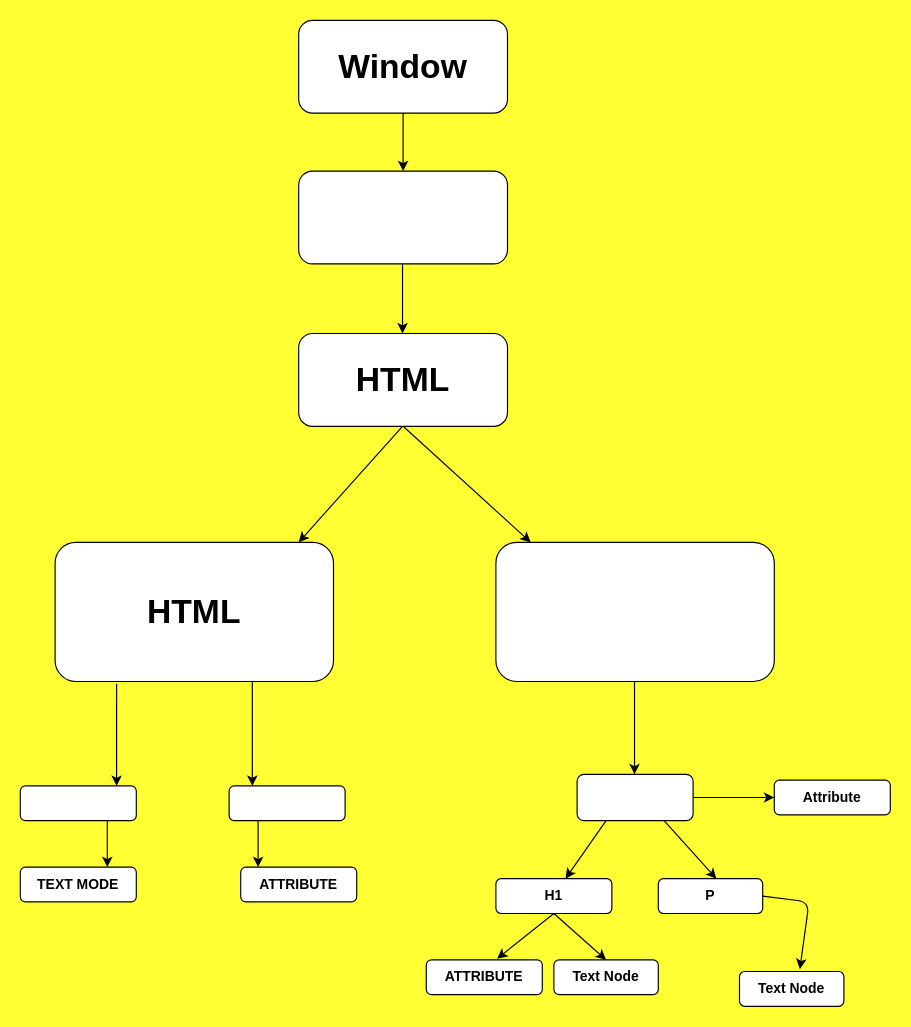
This 911x1027 diagram has some shape labels left out. Here are the shapes that lost their labels. From the top down, the centre of each, then its label:
the point at 402,217: Document
the point at 634,611: BODY
the point at 77,803: TITLE
the point at 286,803: META
the point at 634,797: DIV
